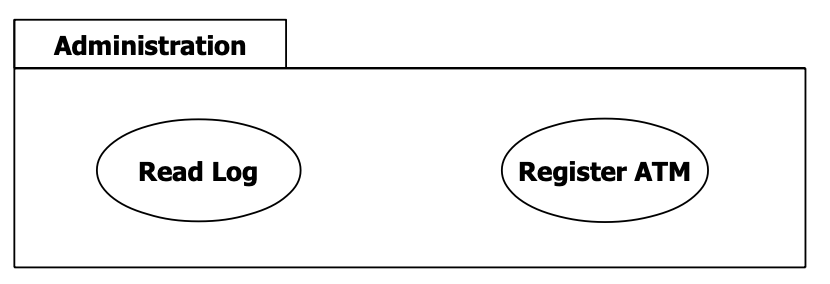text: (51, 28, 248, 62), (517, 153, 694, 188), (133, 154, 263, 191)
use_case: (498, 116, 710, 226), (93, 116, 304, 225)
